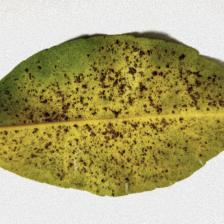canker: (47, 62, 178, 163)
